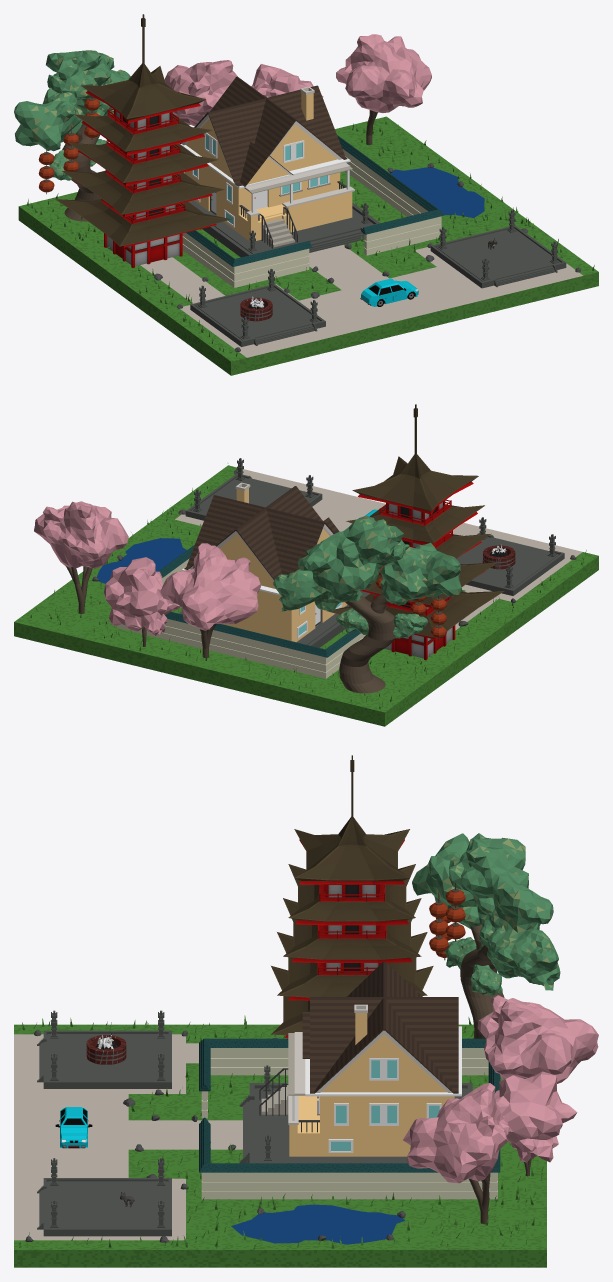
The picture shows the model from 3 angles, top to bottom: view 1: azimuth 30°, elevation 25°; view 2: azimuth 150°, elevation 25°; view 3: azimuth 270°, elevation 25°; orthographic projection. The views are drawn at different scales.
Visible parts, largest first — view 1: Cube.005, Cube.235, VEHICLES_CAR, OBJRANDOM_CAMPFIRE; view 2: Cube.005, Cube.235, OBJRANDOM_CAMPFIRE; view 3: Cube.005, Cube.235, VEHICLES_CAR, OBJRANDOM_CAMPFIRE.
Part boxes in pixels (x1,y1,x2,y2): Cube.005: [14, 14, 598, 375]; Cube.235: [179, 76, 354, 248]; VEHICLES_CAR: [360, 278, 418, 306]; OBJRANDOM_CAMPFIRE: [240, 296, 272, 321]; Cube.005: [14, 404, 598, 726]; Cube.235: [181, 482, 347, 642]; OBJRANDOM_CAMPFIRE: [482, 544, 515, 569]; Cube.005: [14, 755, 598, 1267]; Cube.235: [259, 961, 461, 1156]; VEHICLES_CAR: [55, 1107, 92, 1148]; OBJRANDOM_CAMPFIRE: [86, 1033, 126, 1064].
Size of the model in its own units: 4528 by 2706 by 4389.
44 materials, 5 textured.
